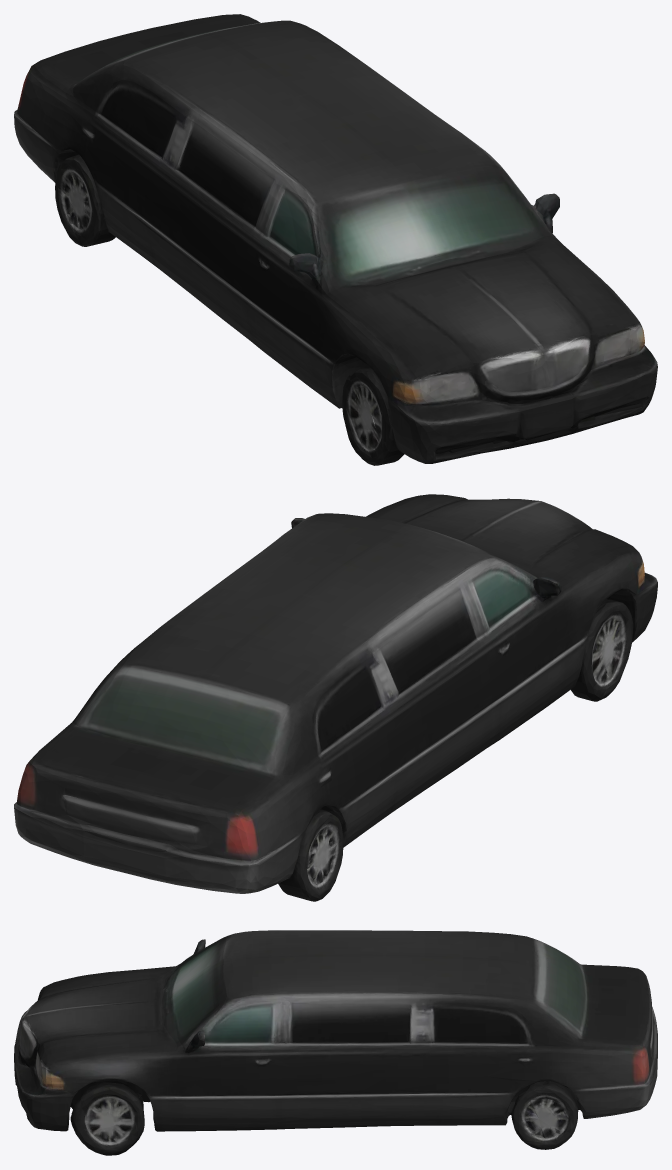
3 views of the same model, one above another, from view 1: azimuth 30°, elevation 25°; view 2: azimuth 150°, elevation 25°; view 3: azimuth 270°, elevation 25° (orthographic). The views are drawn at different scales.
Visible parts, largest first — view 1: geometry_0; view 2: geometry_0; view 3: geometry_0.
Boxes of the visible parts, x1,y1,x2,y2 form: geometry_0: (14,14,657,465); geometry_0: (14,494,657,901); geometry_0: (14,930,657,1155).
Size of the model in its own units: 0.3641 by 0.2689 by 0.9962.
1 material, 1 textured.
